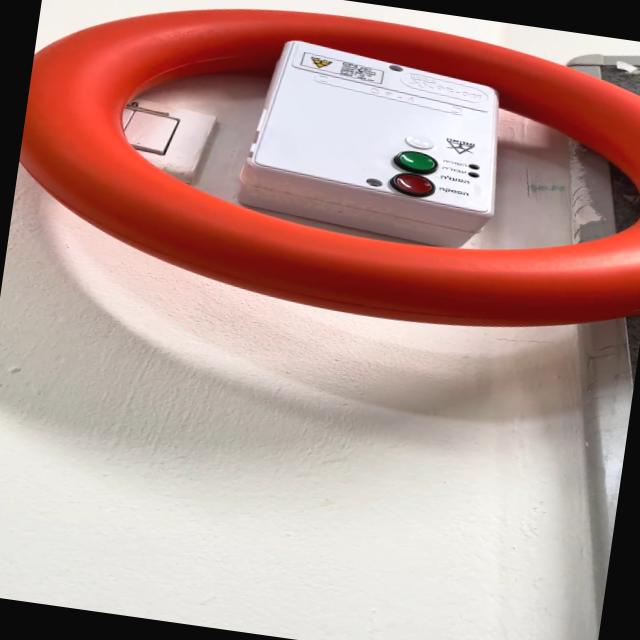note: (6, 0, 640, 356)
